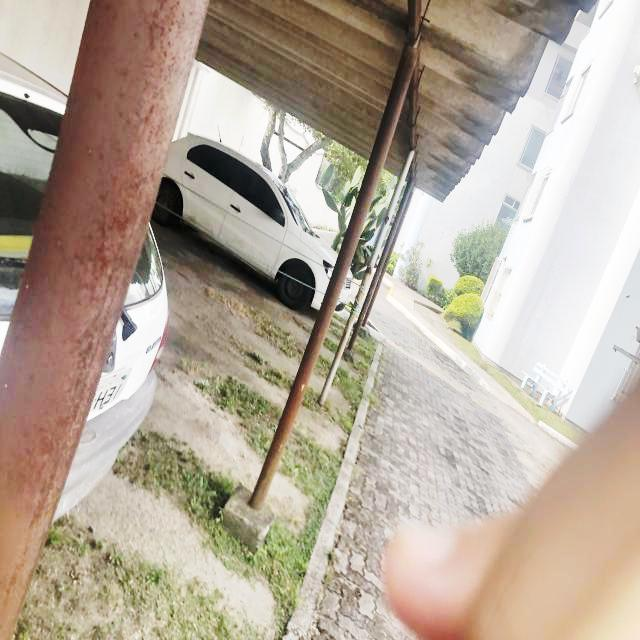Corrosion: (0, 0, 209, 640), (248, 38, 420, 510), (347, 179, 414, 352), (406, 0, 431, 194), (365, 262, 373, 277), (357, 288, 363, 304), (350, 312, 357, 322), (353, 300, 359, 311), (385, 214, 389, 227), (361, 279, 366, 287), (351, 308, 357, 313), (362, 288, 365, 292)
